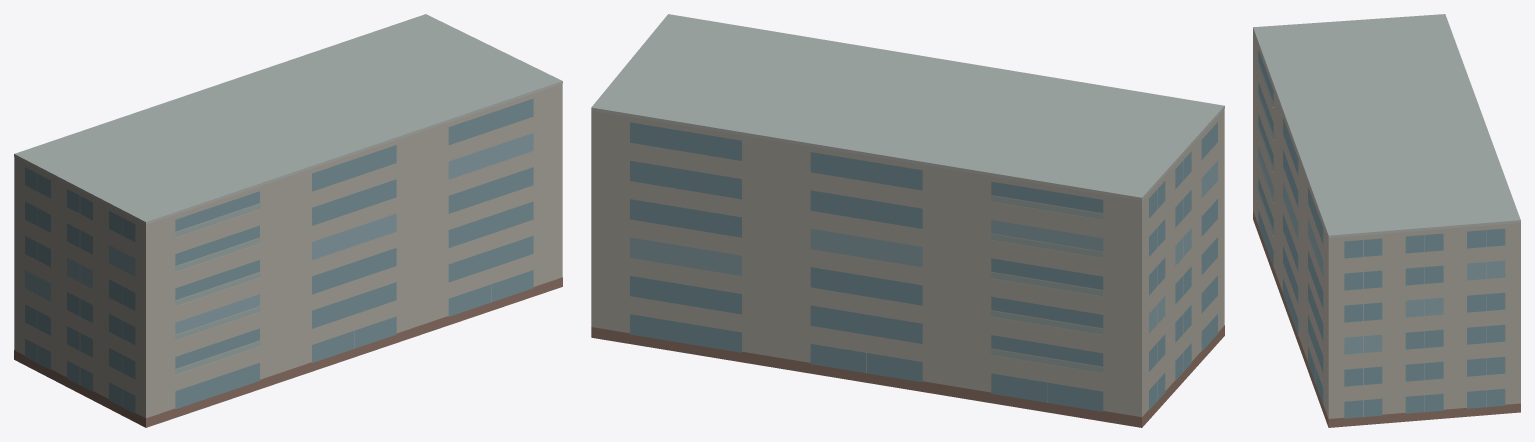
The model's file is survey-upis-32864606.glb.
3 views of the same model, side by side, from view 1: azimuth 30°, elevation 25°; view 2: azimuth 150°, elevation 25°; view 3: azimuth 270°, elevation 25° (orthographic). The views are drawn at different scales.
Visible parts, largest first — view 1: survey-upis-32864606.tmp; view 2: survey-upis-32864606.tmp; view 3: survey-upis-32864606.tmp.
Part boxes in pixels (x1,y1,x2,y2): survey-upis-32864606.tmp: (14,14,562,427); survey-upis-32864606.tmp: (591,14,1224,427); survey-upis-32864606.tmp: (1253,14,1520,427).
Bounding box in the file's own units: 45.25 × 18.3 × 23.11.
